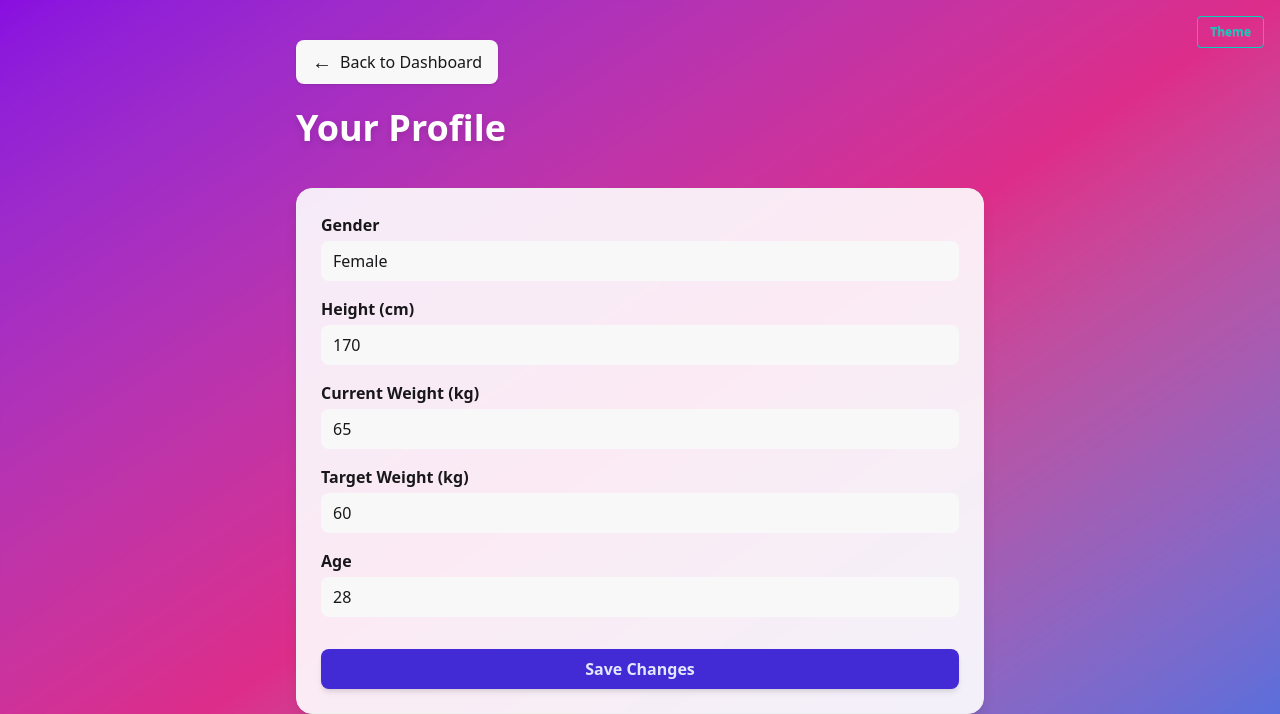
Test: ProfilePage - 20 Automated UI Tests › 12. Empty weight shows error
Clear the number field named "weight_kg" below "Current Weight (kg)" at (640, 429), box [321, 409, 959, 449]
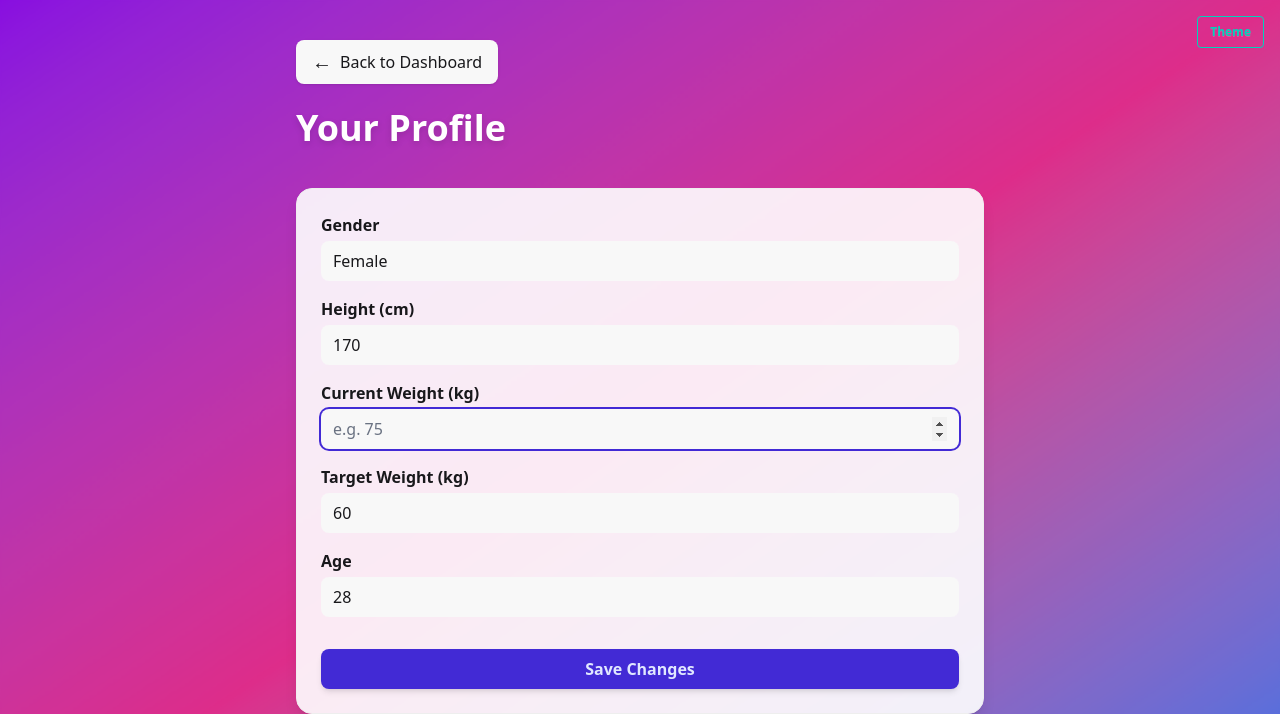
Click the button "Save Changes" at (640, 669), box [321, 649, 959, 689]
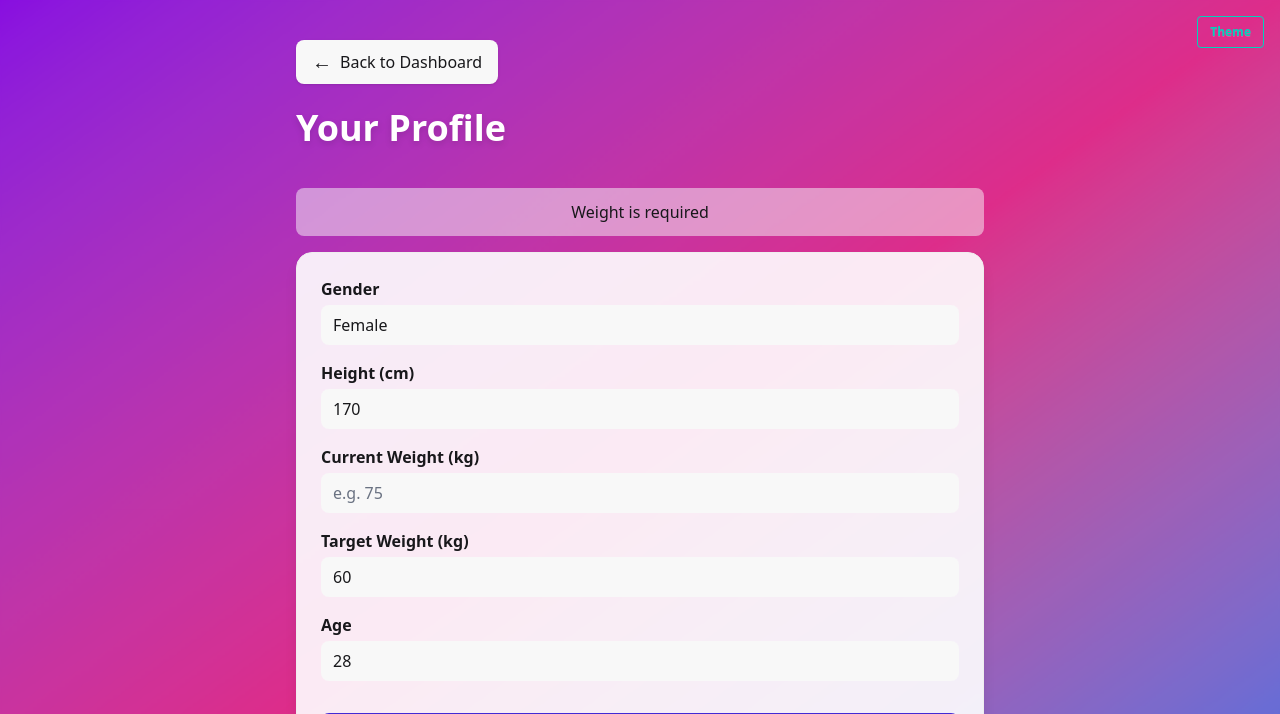
Check: the text "Weight is required" is shown, box [296, 188, 984, 236]
